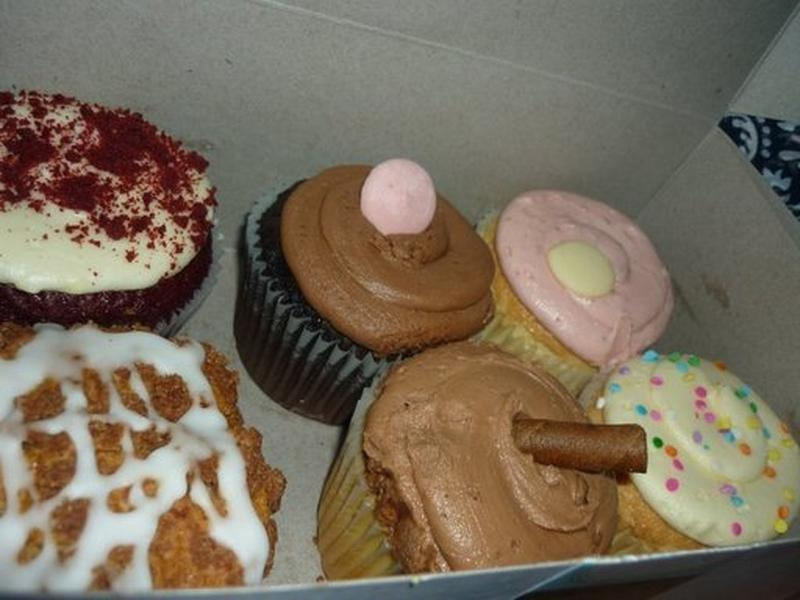cup_cake: (218, 158, 800, 575)
